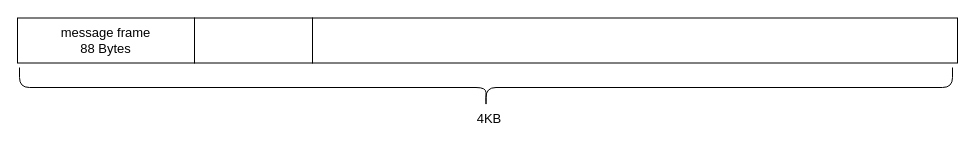
This 975x159 diagram has some shape labels left out. Here are the shapes that lost their labels. From the top down, the centre of each, then its label:
(253,40): start position 48 Bytes
(635,40): cycle buffer
